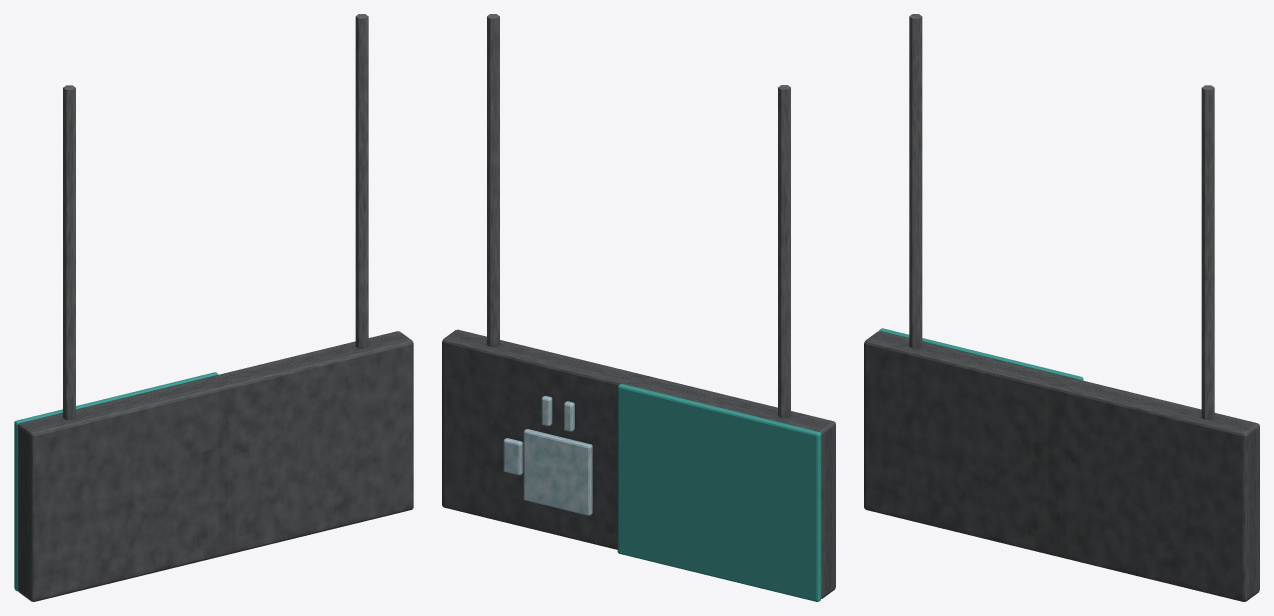
The model's file is base_hanging_sign_lounge.glb.
3 views of the same model, side by side, from view 1: azimuth 30°, elevation 25°; view 2: azimuth 150°, elevation 25°; view 3: azimuth 330°, elevation 25° (orthographic).
Parts seen in each view (by area): view 1: base_hanging_sign_lounge; view 2: base_hanging_sign_lounge; view 3: base_hanging_sign_lounge.
Boxes of the visible parts, x1,y1,x2,y2 form: base_hanging_sign_lounge: [14, 14, 413, 601]; base_hanging_sign_lounge: [442, 14, 835, 601]; base_hanging_sign_lounge: [864, 14, 1259, 601].
Size of the model in its own units: 1.7 by 2.12 by 0.145.
3 materials, 3 textured.
